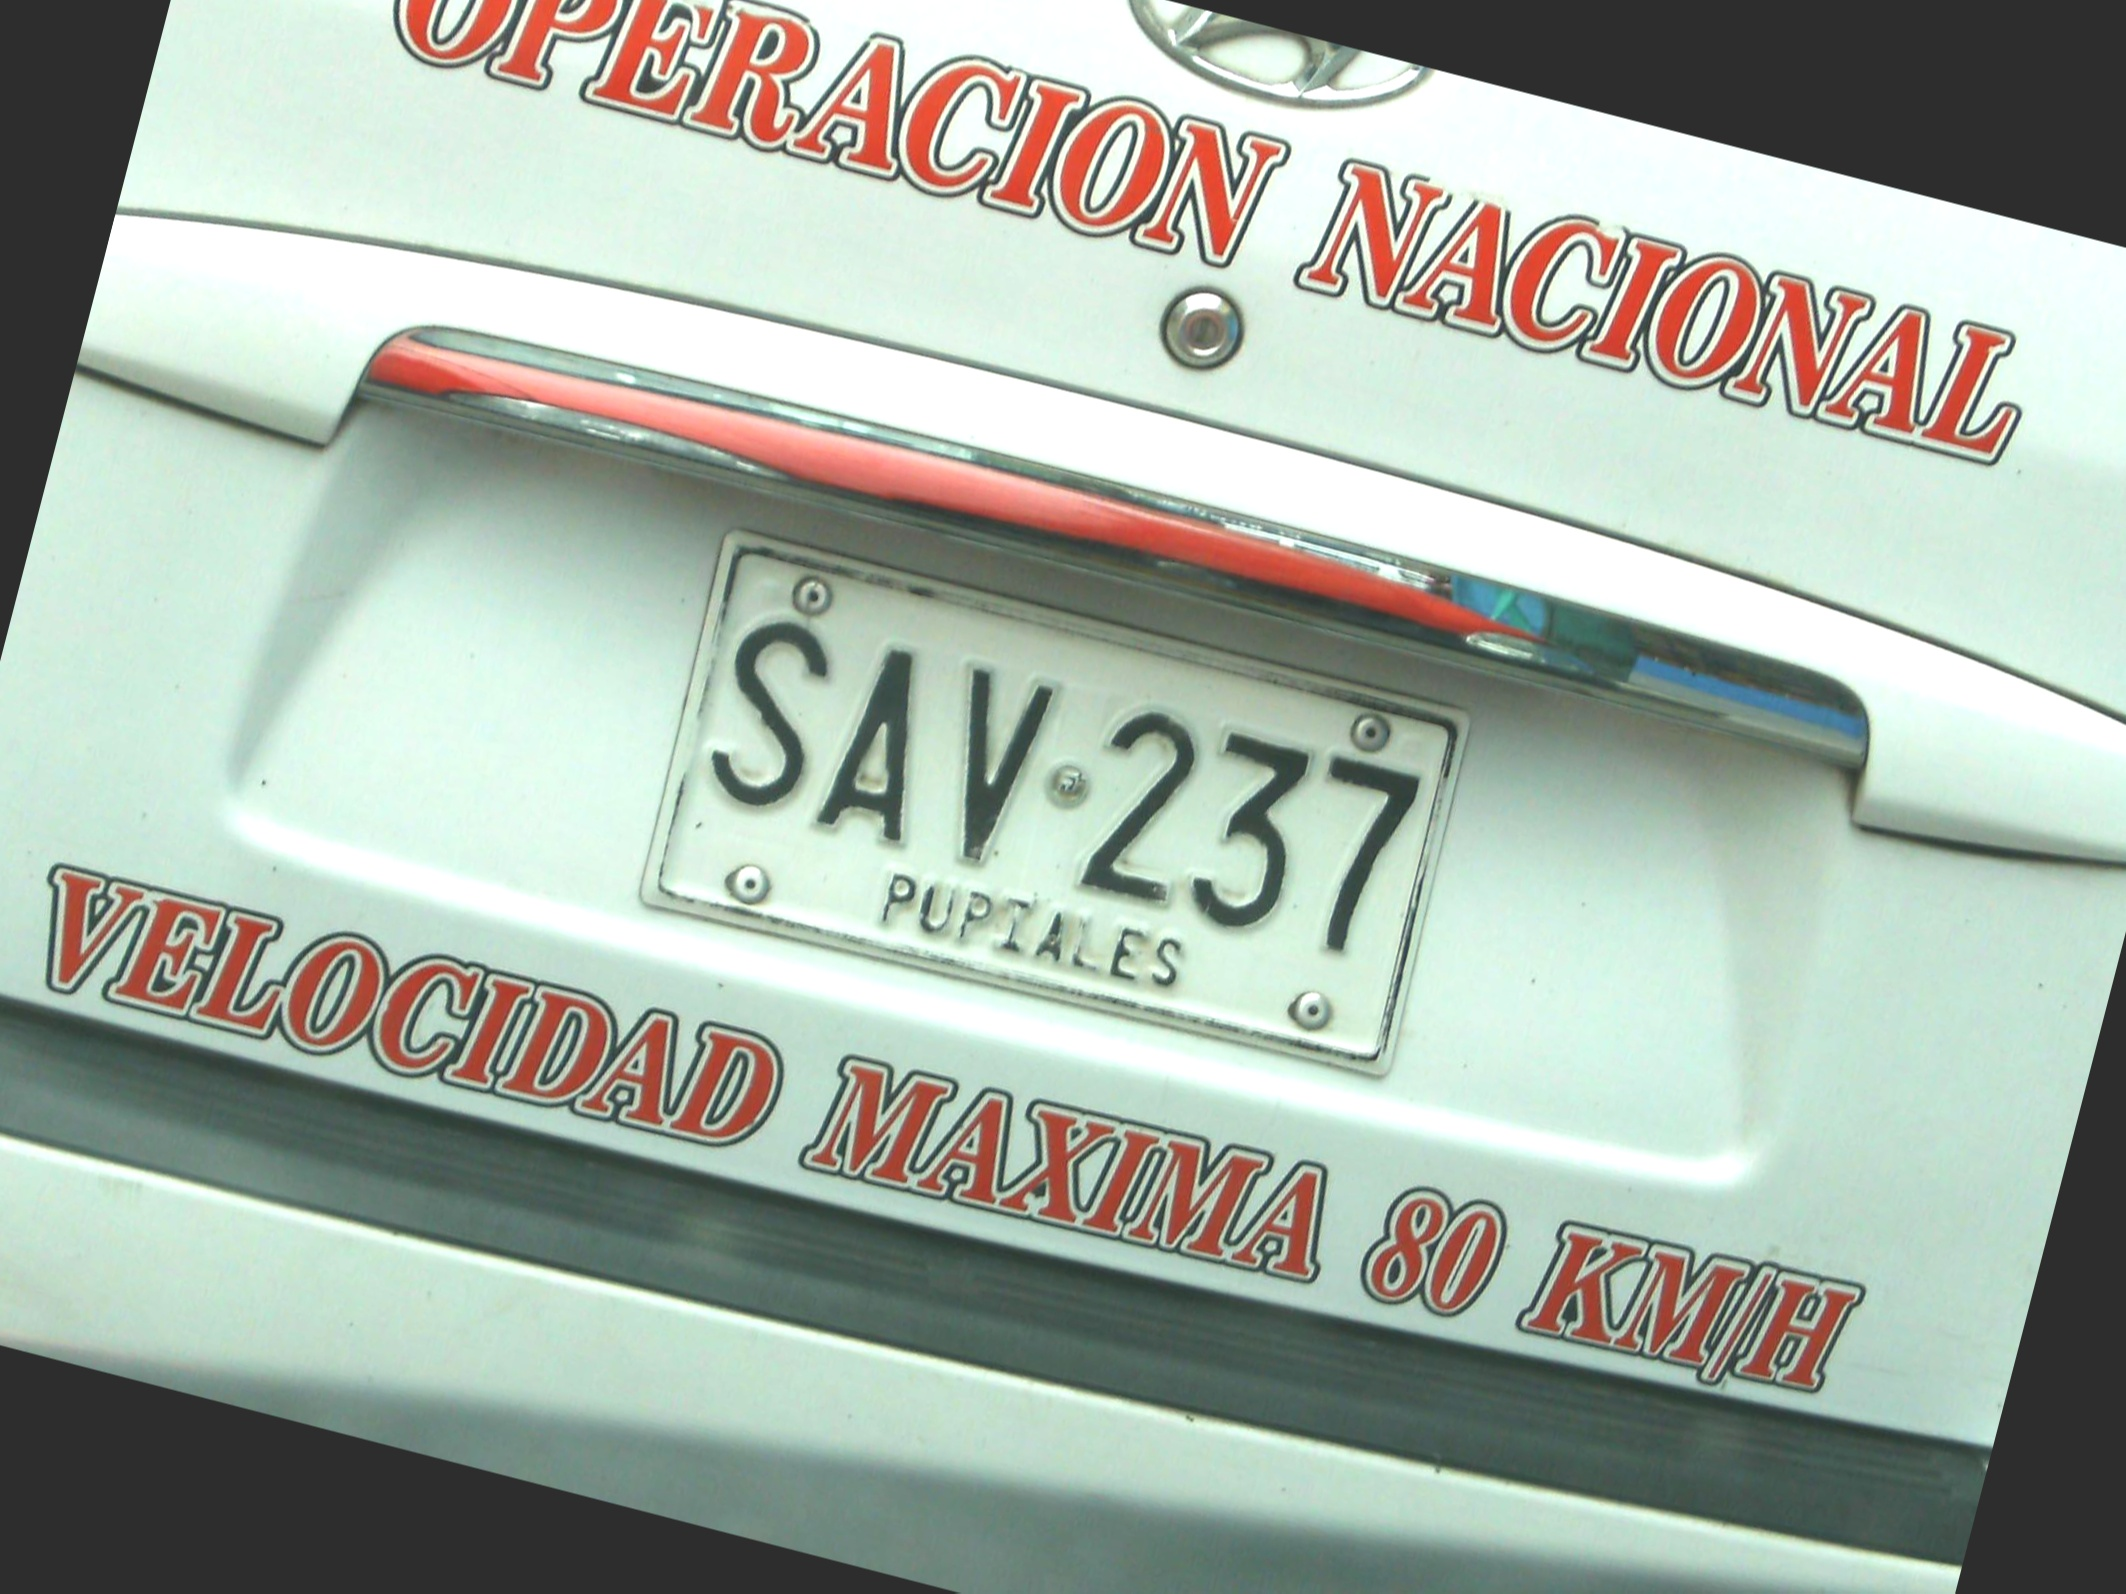placas: (619, 501, 1493, 1100)
